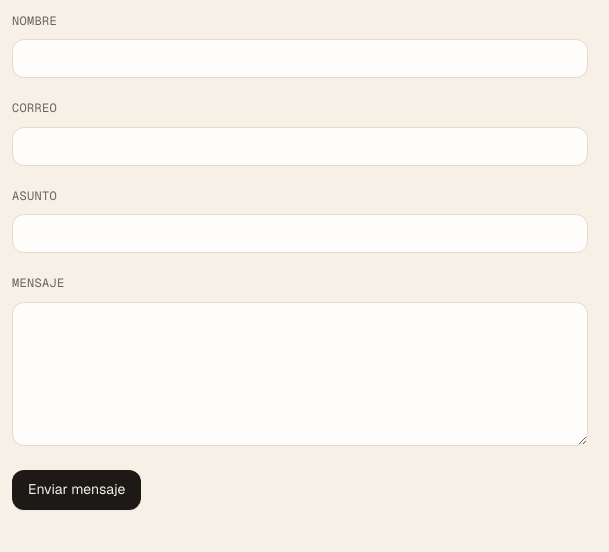
Test: ContactForm › rejects an invalid email
Type "Ana" into the field labelled "Nombre" at (300, 59), box [12,39,588,78]
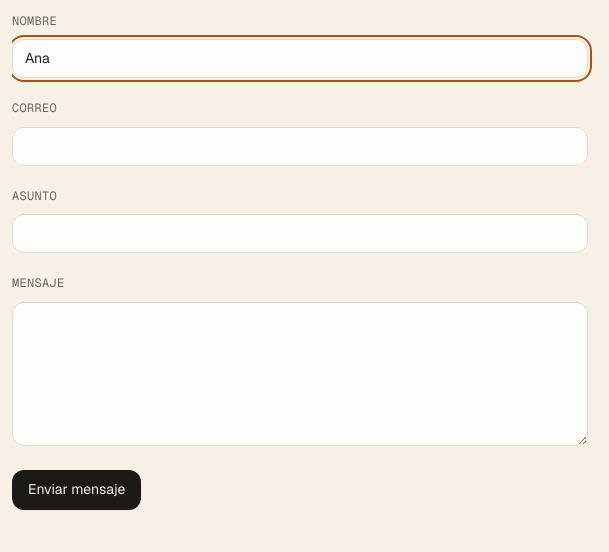
Type "ana" into the field labelled "Correo" at (300, 146), box [12,127,588,166]
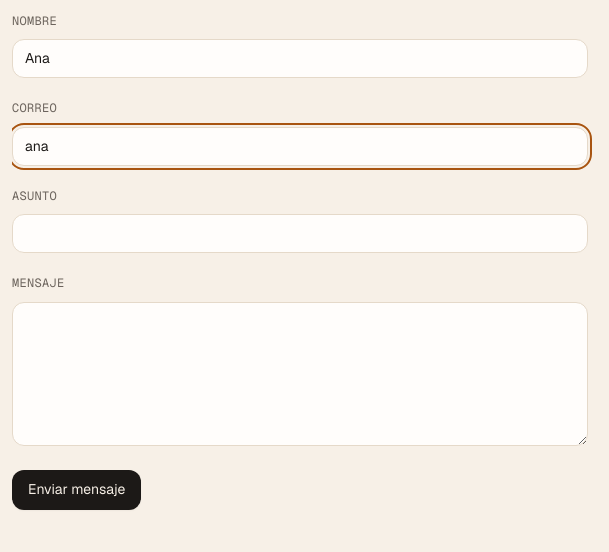
Type "Hola, quiero conversar." into the text box labelled "Mensaje" at (300, 374), box [12,302,588,446]
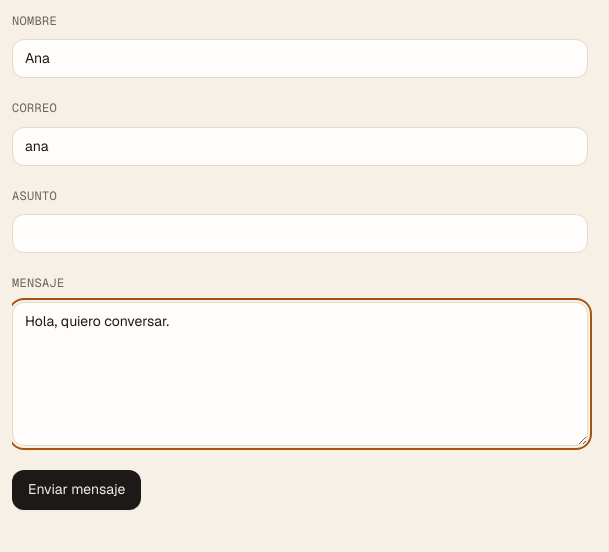
Click the button "Enviar mensaje" at (77, 490), box [12,470,142,510]
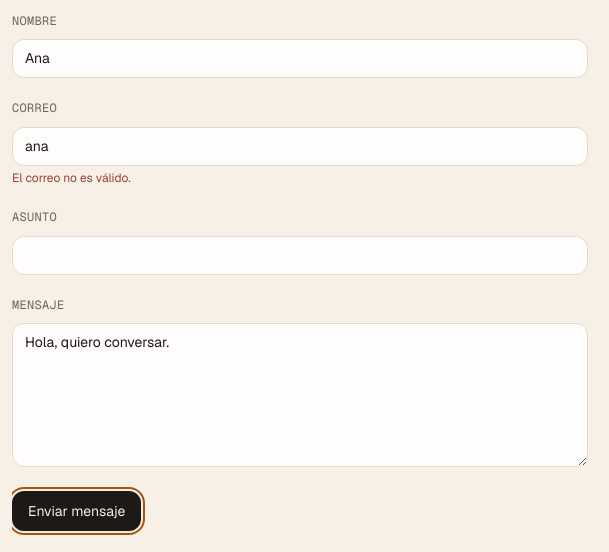
Now the text "El correo no es válido." is shown, box [12,170,131,186]
